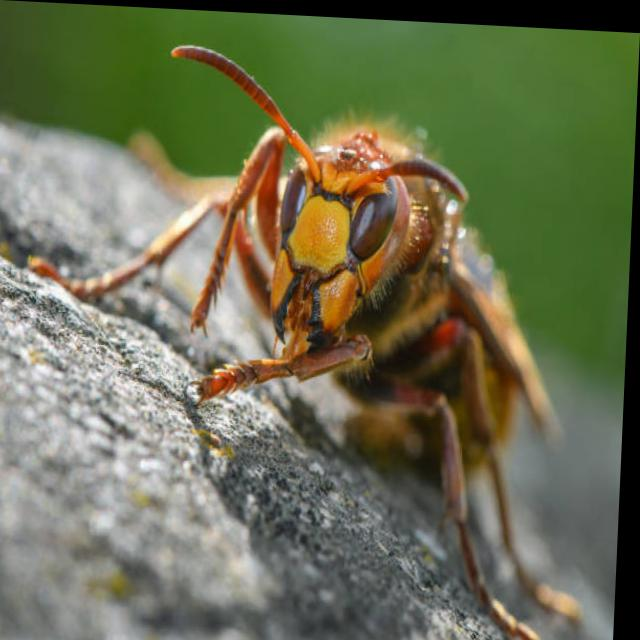Vespa Crabro: (19, 18, 610, 639)
